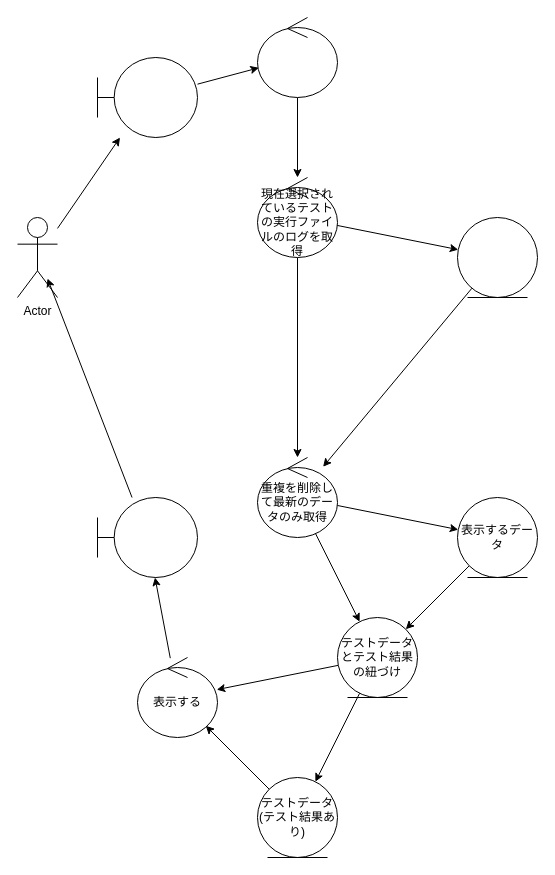
Image size: 555x875. Some labels were removed from this diagram. The box of each missing label's shape, as (x1, y1, x2, y2) in pixels:
ツールの起動処理: (256, 16, 338, 98)
テスト結果一覧: (96, 496, 198, 578)
ログファイル一覧: (456, 216, 538, 298)
実行ファイル: (96, 56, 198, 138)
